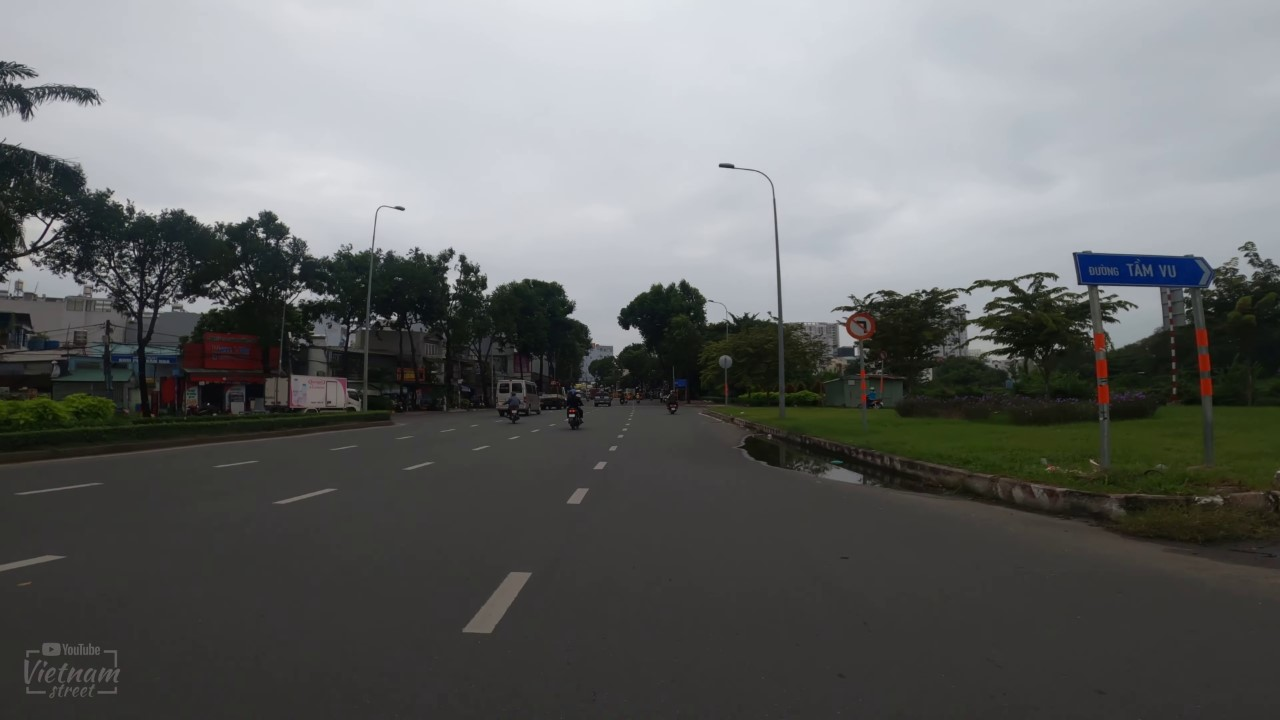cam_re_trai: (844, 308, 878, 344)
